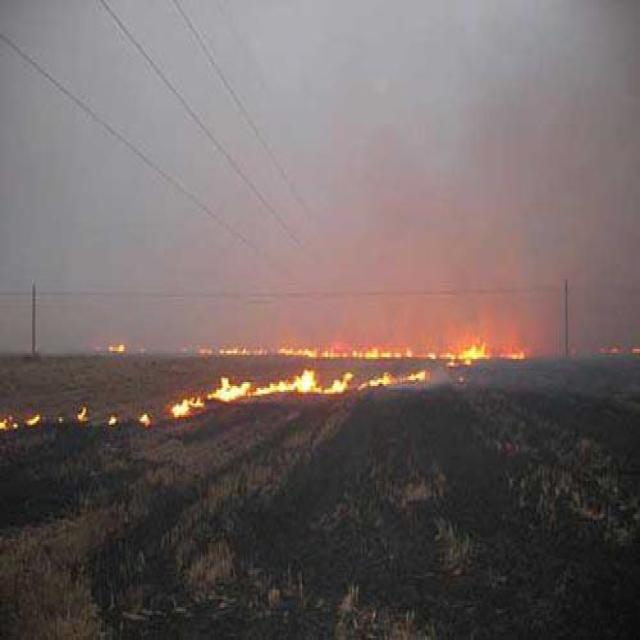fire: (99, 312, 528, 374), (153, 362, 434, 424), (1, 398, 149, 433)
